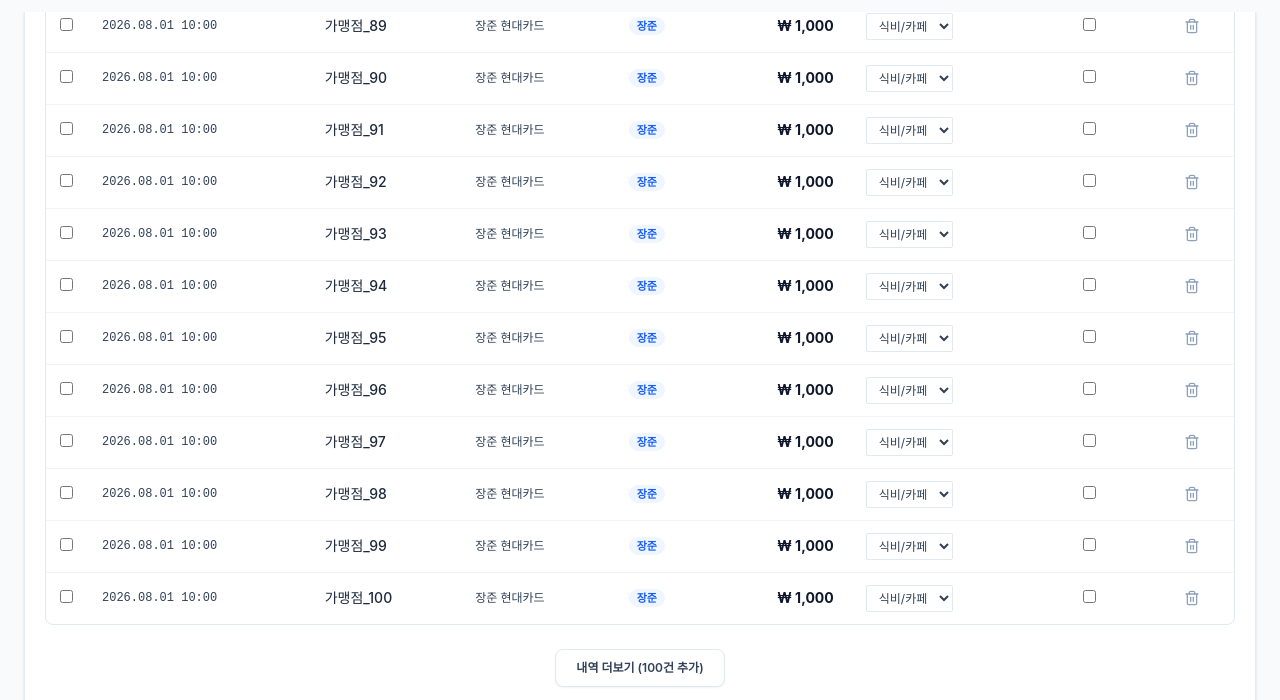
Test case: ExpensesPage 컴포넌트 테스트 › 첫 페이지 거래가 100건 이상일 때 내역 더보기 버튼이 표시되고 클릭 시 offset 페이징으로 추가 데이터를 누적해야 한다
(page scrolled)
Click the button "내역 더보기 (100건 추가)". click: coordinates (640, 668)
box: [555, 648, 725, 686]
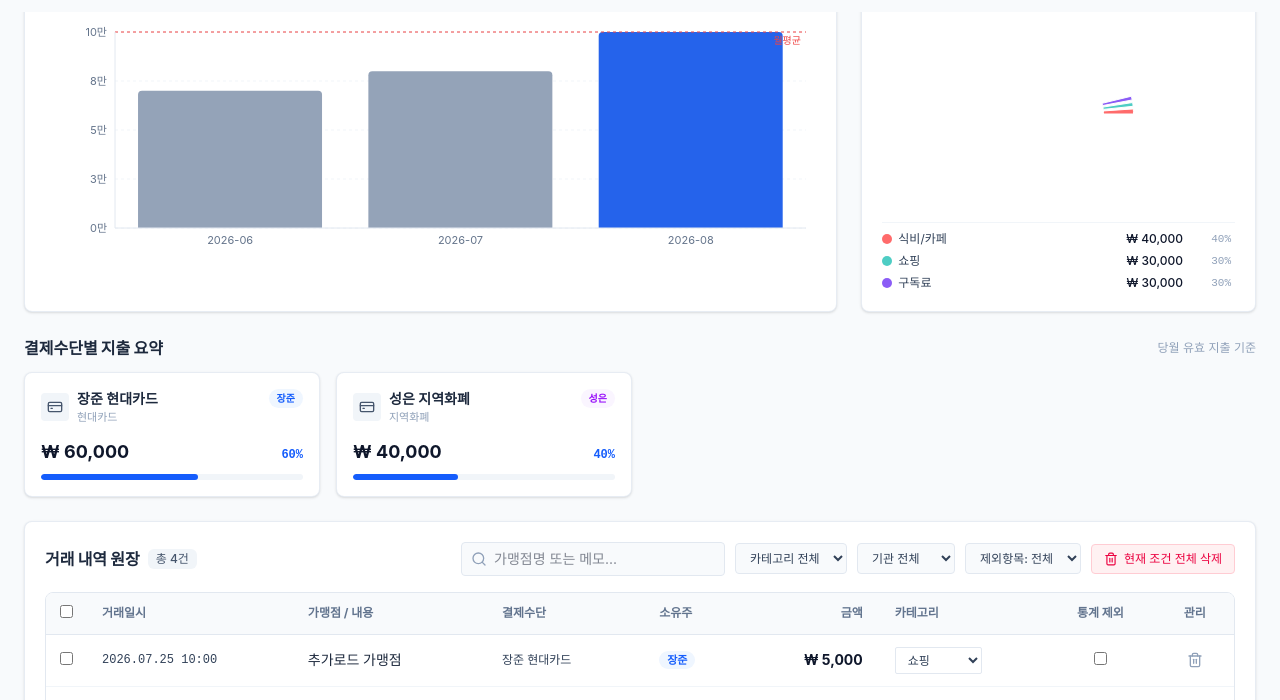
Now the text "추가로드 가맹점" is shown, box [308, 651, 402, 668]
